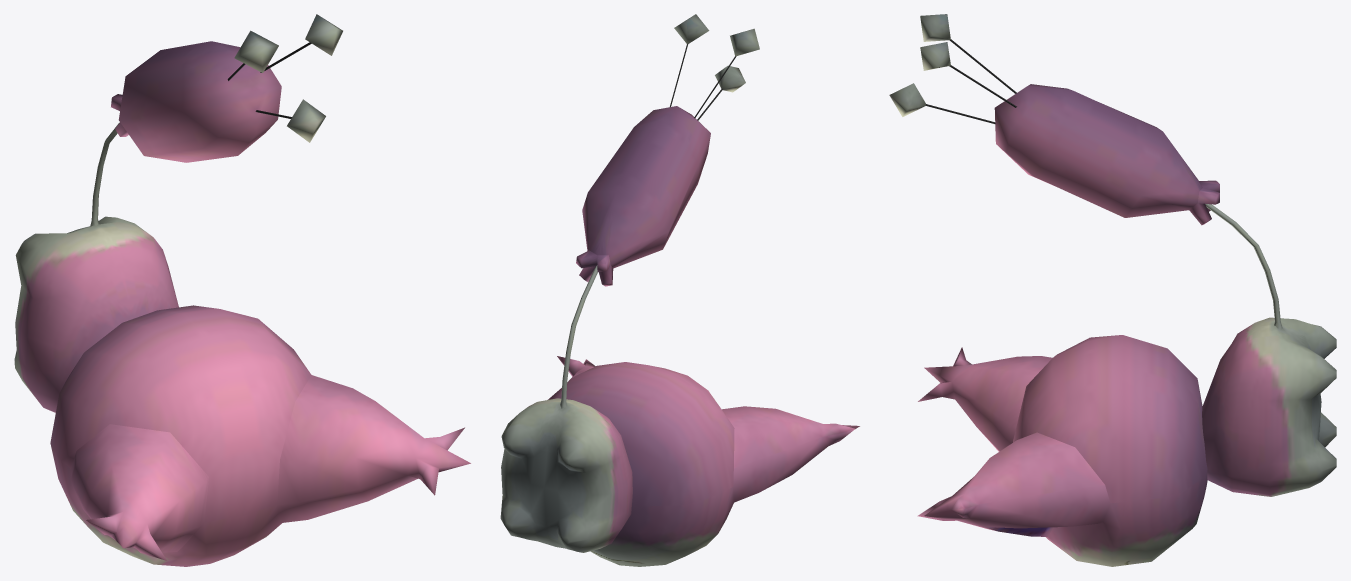
The picture shows the model from 3 angles, left to right: view 1: azimuth 30°, elevation 25°; view 2: azimuth 150°, elevation 25°; view 3: azimuth 270°, elevation 25°; orthographic projection. The views are drawn at different scales.
Parts seen in each view (by area): view 1: eneko_00_0_0_node; view 2: eneko_00_0_0_node, eneko_00_1_0_node; view 3: eneko_00_0_0_node.
Part boxes in pixels (x1,y1,x2,y2): eneko_00_0_0_node: [14, 14, 470, 566]; eneko_00_0_0_node: [500, 14, 859, 564]; eneko_00_1_0_node: [590, 549, 664, 566]; eneko_00_0_0_node: [889, 14, 1336, 566].
Size of the model in its own units: 5.29 by 8.05 by 6.18.
Materials: 3 (3 with a texture image).
